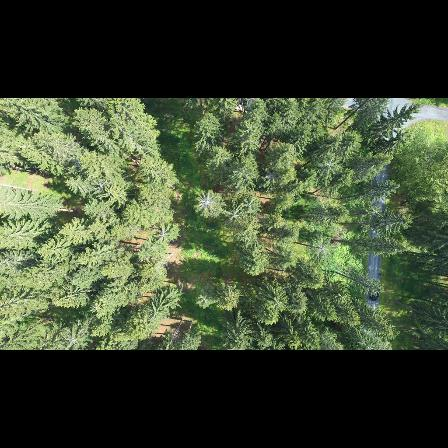Sick: (192, 186, 226, 219), (220, 203, 246, 226), (364, 200, 384, 220)
